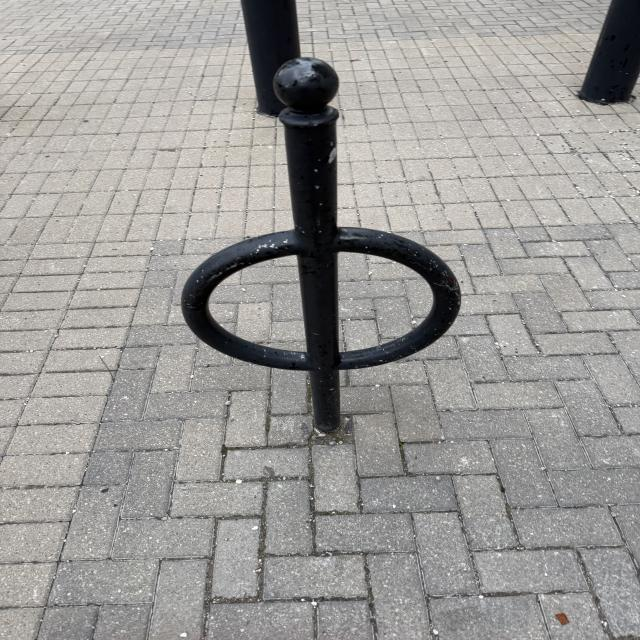Bicycle Rack: (180, 58, 461, 433)
